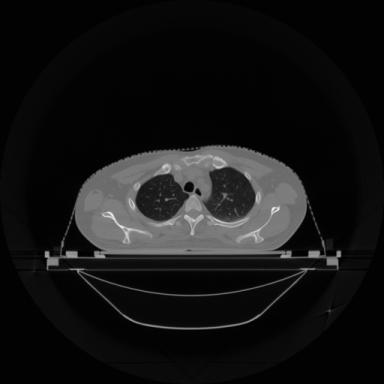body: (75, 146, 306, 250)
cord: (184, 214, 204, 235)
paru kanan: (136, 174, 189, 221)
paru kiri: (205, 167, 255, 222)
